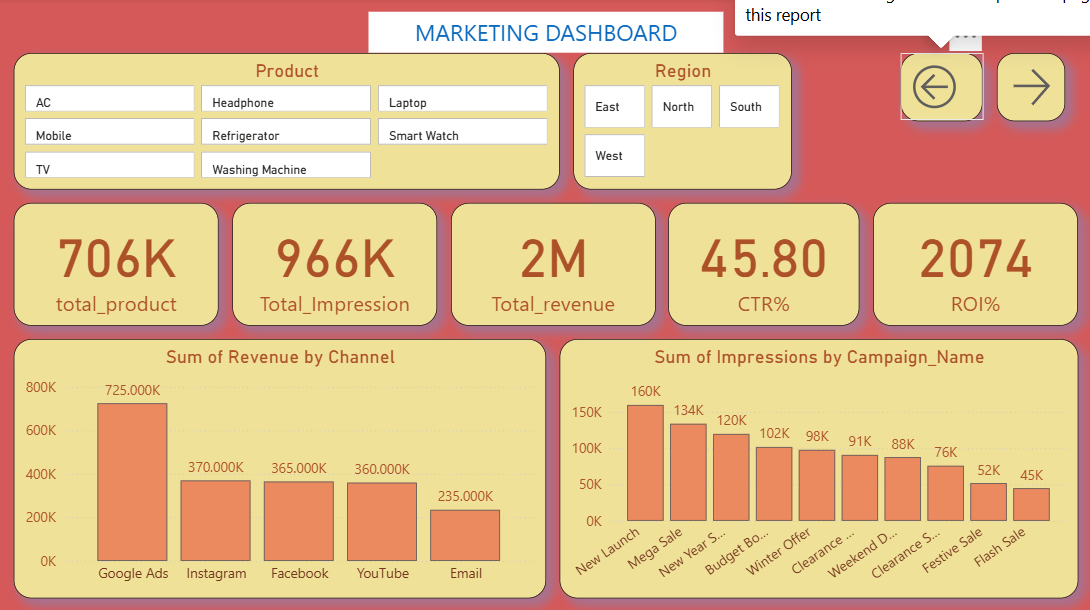

This screenshot's page, from the dashboard's own definition file:
{"tool":"powerbi","page":{"name":"MARKETING DASHBOARD","canvas":[1280,720],"ordinal":3},"visuals":[{"type":"card","fields":{"Values":["CallCentreData.total_product"]},"box":[16,240,240,144],"z":0},{"type":"card","fields":{"Values":["CallCentreData.Total_spend"]},"box":[272,240,240,144],"z":1000},{"type":"card","fields":{"Values":["CallCentreData.CTR%"]},"box":[784,240,224,144],"z":2000},{"type":"card","fields":{"Values":["CallCentreData.ROI%"]},"box":[1024,240,240,144],"z":3000},{"type":"columnChart","fields":{"Category":["Marketing_Data.Channel"],"Y":["Sum(Marketing_Data.Revenue)"]},"box":[16,400,624,304],"z":4000},{"type":"columnChart","fields":{"Category":["Marketing_Data.Campaign_Name"],"Y":["Sum(Marketing_Data.Impressions)"]},"box":[656,400,608,304],"z":5000},{"type":"card","fields":{"Values":["CallCentreData.Total_revenue"]},"box":[528,240,240,144],"z":6000},{"type":"advancedSlicerVisual","fields":{"Values":["Marketing_Data.Product"]},"box":[16,64,640,160],"z":7000},{"type":"advancedSlicerVisual","fields":{"Values":["Marketing_Data.Region"]},"box":[672,64,256,160],"z":8000},{"type":"actionButton","box":[1168,64,80,80],"z":9000},{"type":"actionButton","box":[1056,64,96,80],"z":10000},{"type":"textbox","box":[432,16,416,48],"z":11000}]}

Visuals, with their boxes in screenshot pixels (x1, y1, x2, y2), scaled from the page's 1280x720 canvas onto the 1090x610 screenshot:
card - CallCentreData.total_product: 14/203/218/325
card - CallCentreData.Total_spend: 232/203/436/325
card - CallCentreData.CTR%: 668/203/858/325
card - CallCentreData.ROI%: 872/203/1076/325
columnChart - Marketing_Data.Channel x Sum(Marketing_Data.Revenue): 14/339/545/596
columnChart - Marketing_Data.Campaign_Name x Sum(Marketing_Data.Impressions): 559/339/1076/596
card - CallCentreData.Total_revenue: 450/203/654/325
advancedSlicerVisual - Marketing_Data.Product: 14/54/559/190
advancedSlicerVisual - Marketing_Data.Region: 572/54/790/190
actionButton: 995/54/1063/122
actionButton: 899/54/981/122
textbox: 368/14/722/54
